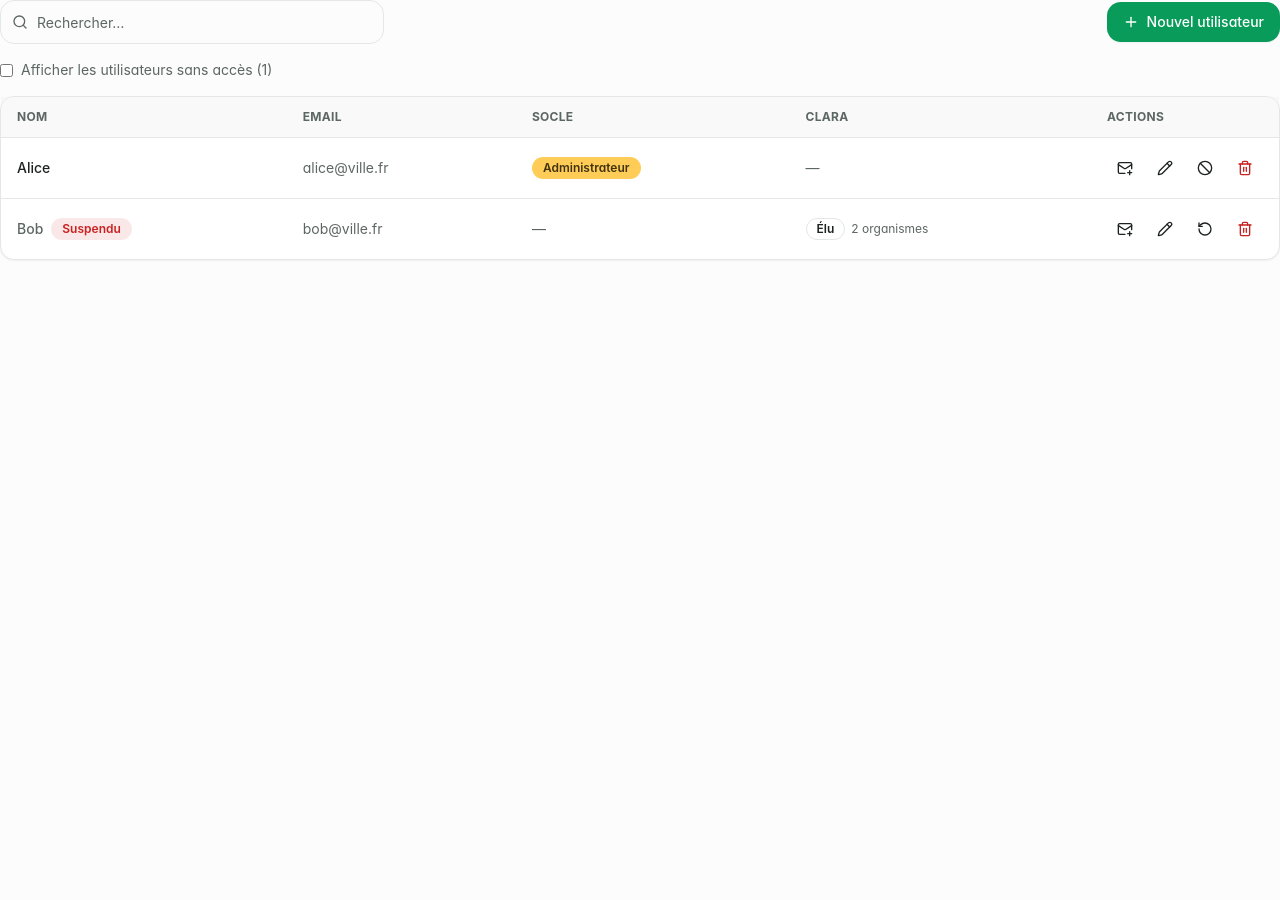
Test: UsersManagementPage › création : l'administration d'une application coche et verrouille la collectivité
Click the button "Nouvel utilisateur" at (1193, 22), box x1=1107 y1=2 x2=1279 y2=42
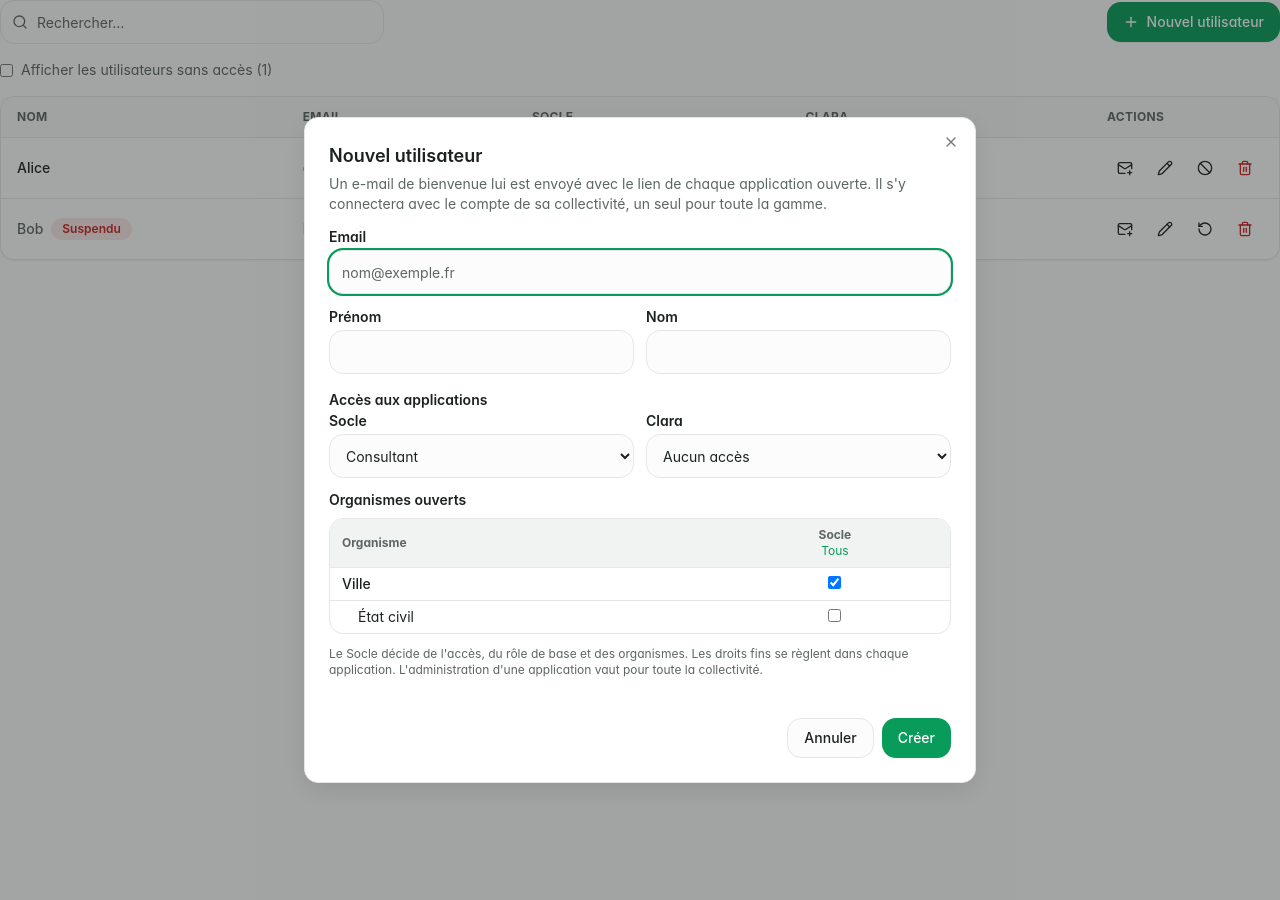
Select "Élu" in the dropdown labelled "Clara" at (798, 456), box x1=646 y1=434 x2=951 y2=478
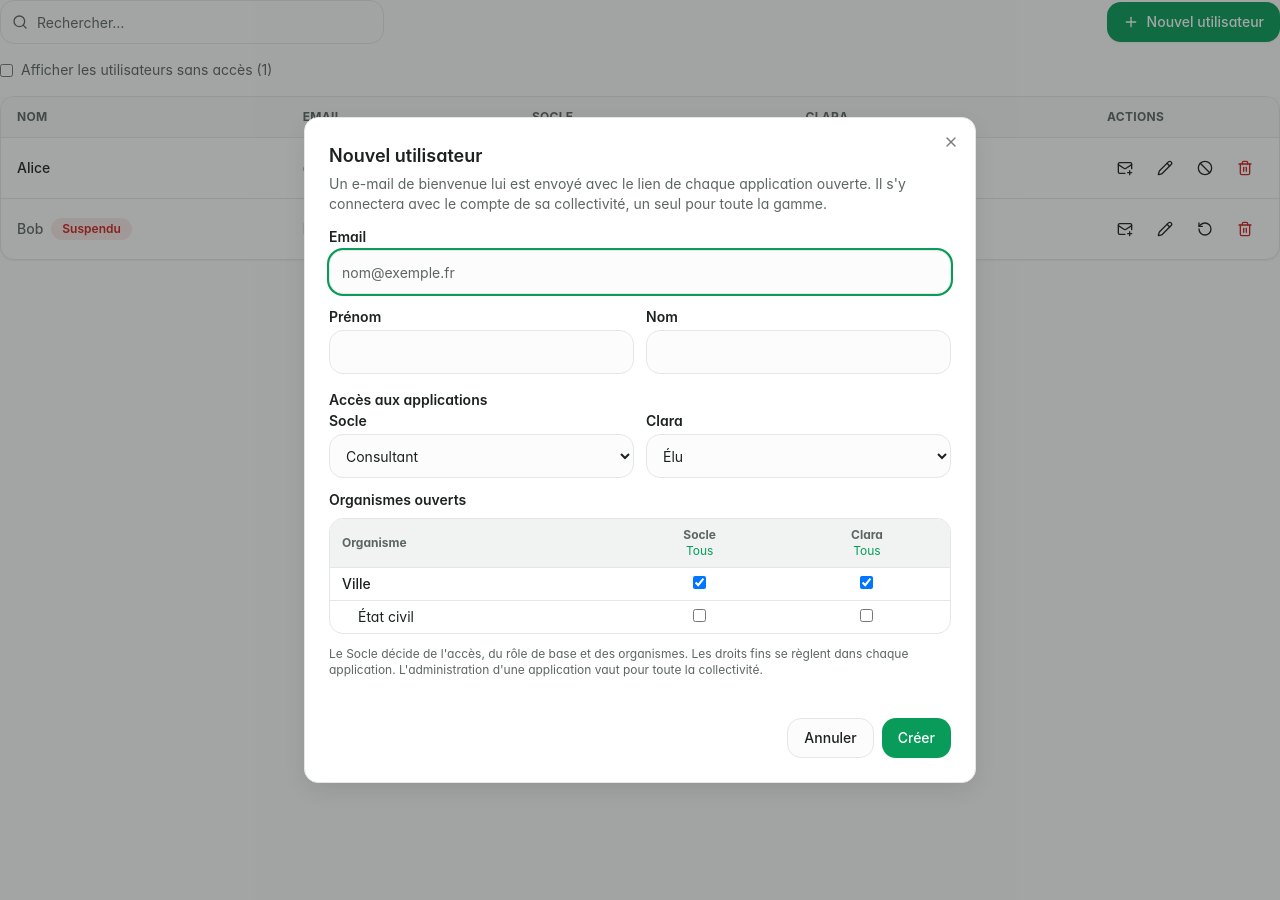
Click the checkbox named "Clara — Ville" at (867, 582), box x1=860 y1=576 x2=874 y2=589
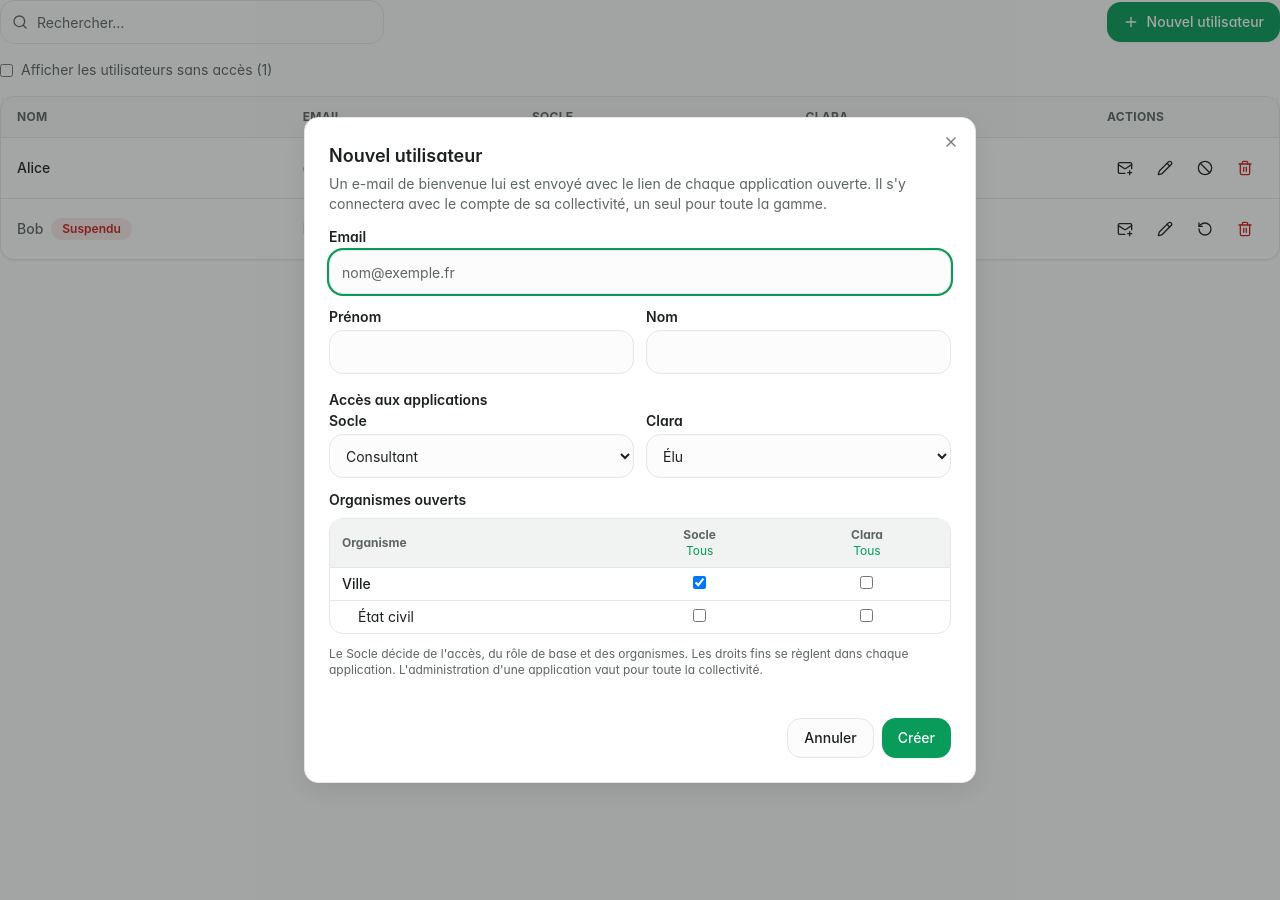
Expected: the checkbox named "Clara — Ville" is not checked, x1=860 y1=576 x2=874 y2=589
Select "Administrateur" in the dropdown labelled "Clara" at (798, 456), box x1=646 y1=434 x2=951 y2=478
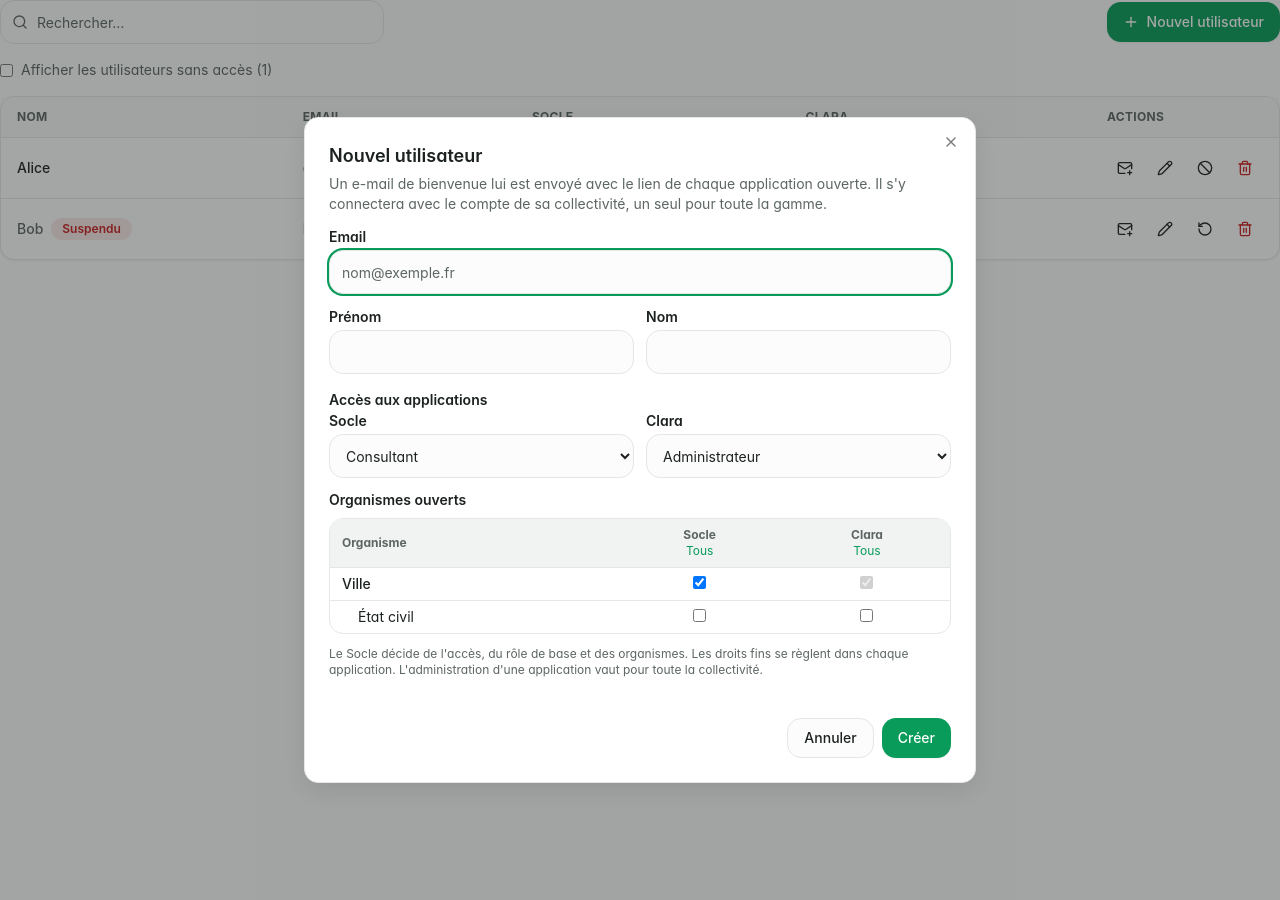
Expected: the checkbox named "Clara — Ville" is checked, x1=860 y1=576 x2=874 y2=589
Expected: the checkbox named "Clara — Ville" is disabled, x1=860 y1=576 x2=874 y2=589
